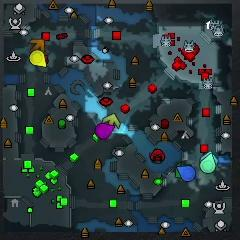p1: (177, 166, 197, 182)
p2: (200, 153, 216, 174)
p3: (95, 123, 116, 141)
p4: (29, 50, 48, 68)
x2: (102, 113, 121, 128)
x3: (201, 151, 220, 163)
x4: (175, 164, 182, 179)
x5: (29, 39, 46, 53)
